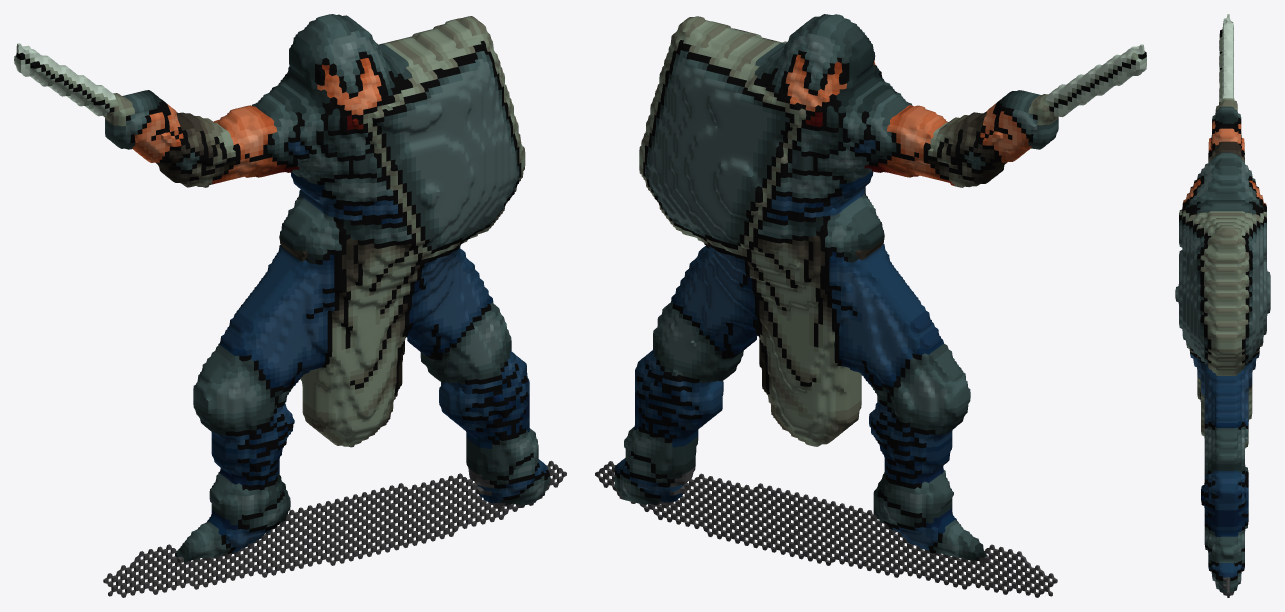
The model's file is Fight_704_2_04.obj.
3 renders of one model, left to right at view 1: azimuth 30°, elevation 25°; view 2: azimuth 150°, elevation 25°; view 3: azimuth 270°, elevation 25°, orthographic. The views are drawn at different scales.
Size of the model in its own units: 12.08 by 12.56 by 2.6.
Materials: 1 (1 with a texture image).
